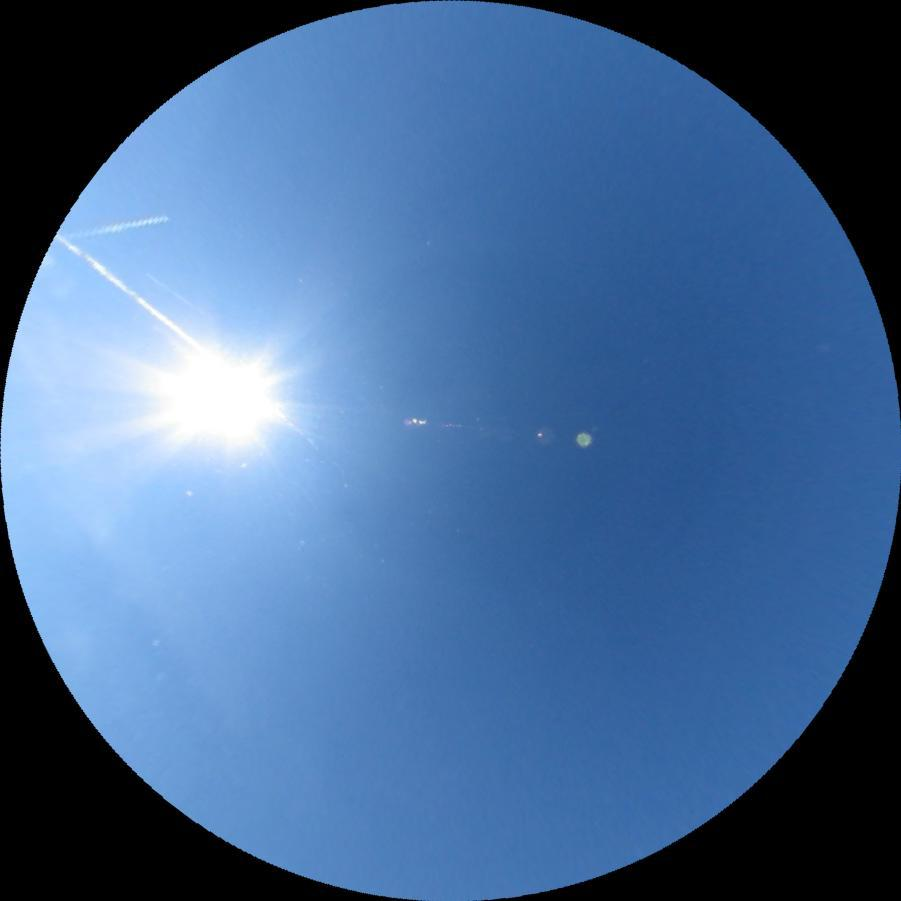contrail young: (62, 214, 169, 243)
parasite: (52, 231, 200, 349), (146, 270, 211, 322), (276, 410, 321, 449)
sun: (151, 328, 286, 464)
